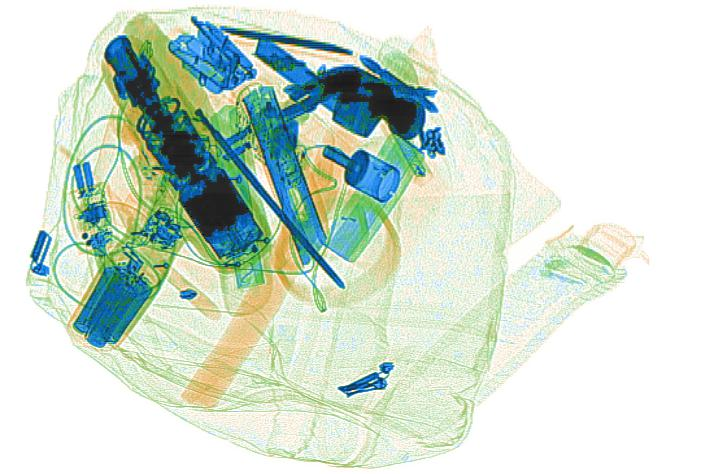battery: (69, 260, 154, 351)
knife: (238, 82, 332, 270), (201, 101, 277, 318)
